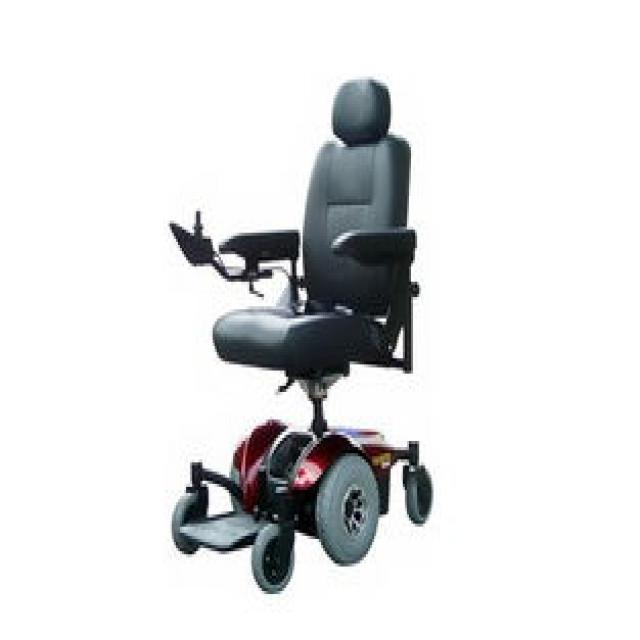wheelchair: (151, 70, 454, 598)
